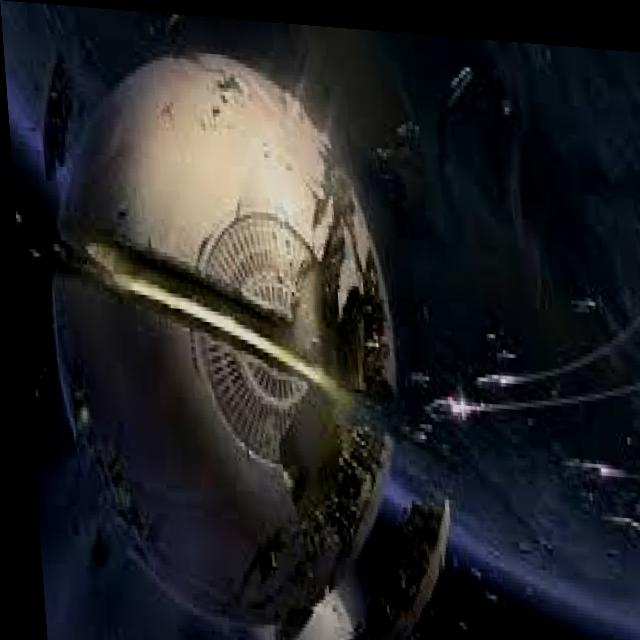deathStar: (32, 41, 403, 635)
